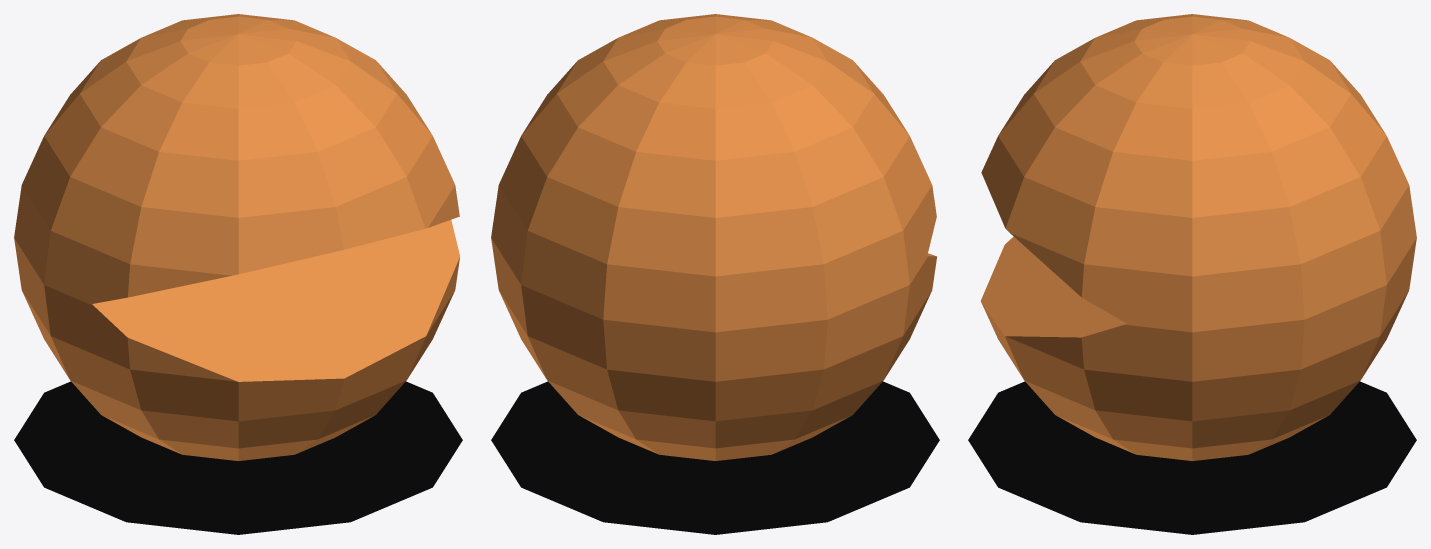
Rendered from Orange.fbx.
The picture shows the model from 3 angles, left to right: view 1: azimuth 30°, elevation 25°; view 2: azimuth 150°, elevation 25°; view 3: azimuth 270°, elevation 25°; orthographic projection.
Parts seen in each view (by area): view 1: pCylinder2; view 2: pCylinder2; view 3: pCylinder2.
Boxes of the visible parts, bbox=[...] form: pCylinder2: bbox=[14, 14, 462, 534]; pCylinder2: bbox=[491, 14, 939, 534]; pCylinder2: bbox=[968, 14, 1416, 534].
Size of the model in its own units: 0.6 by 0.6 by 0.6.
